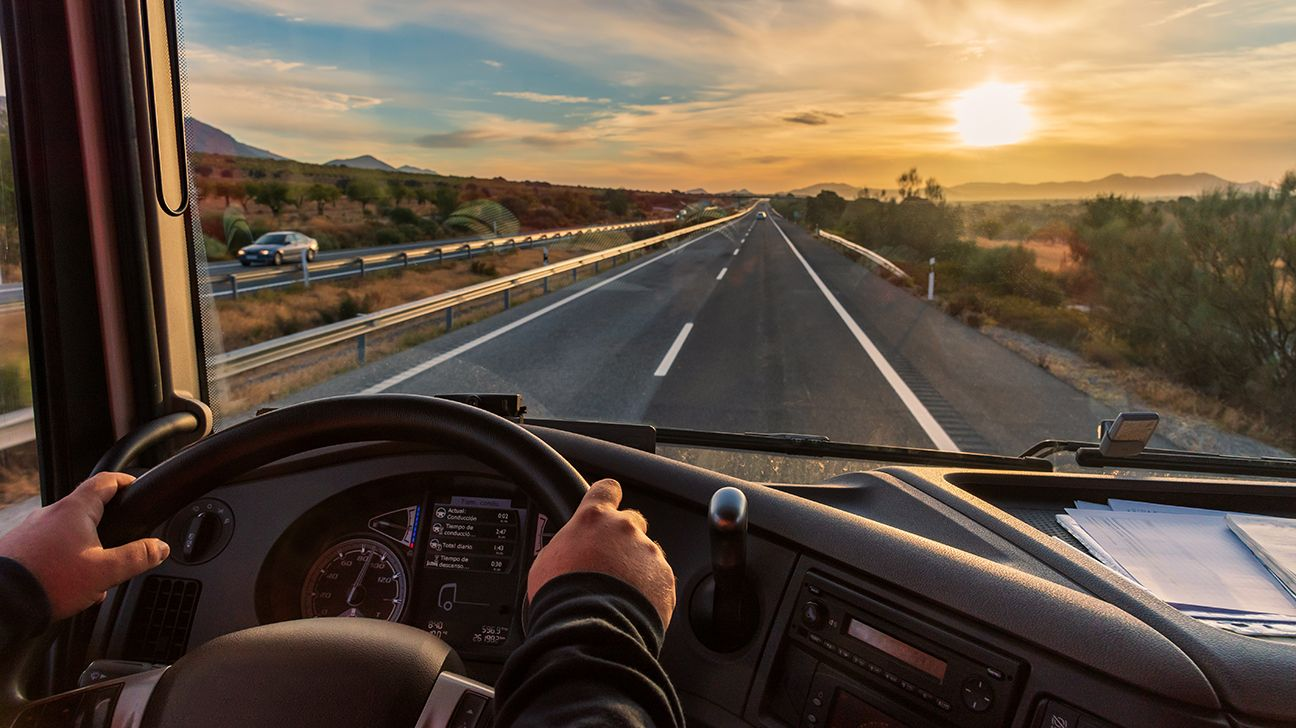Driving: (17, 35, 1258, 706)
